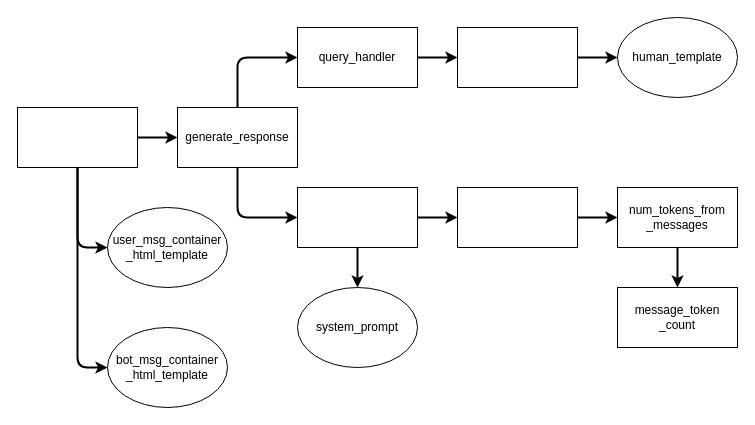
The diagram is 755 pixels wide and 425 high, and some of its shapes have lost their labels. Here are the shapes that lost their labels. From the top down, the centre of each, then its label:
At pixel 517 57: "get_page_contents".
At pixel 77 137: "main".
At pixel 357 217: "construct_messages".
At pixel 517 217: "ensure_fit_tokens".
